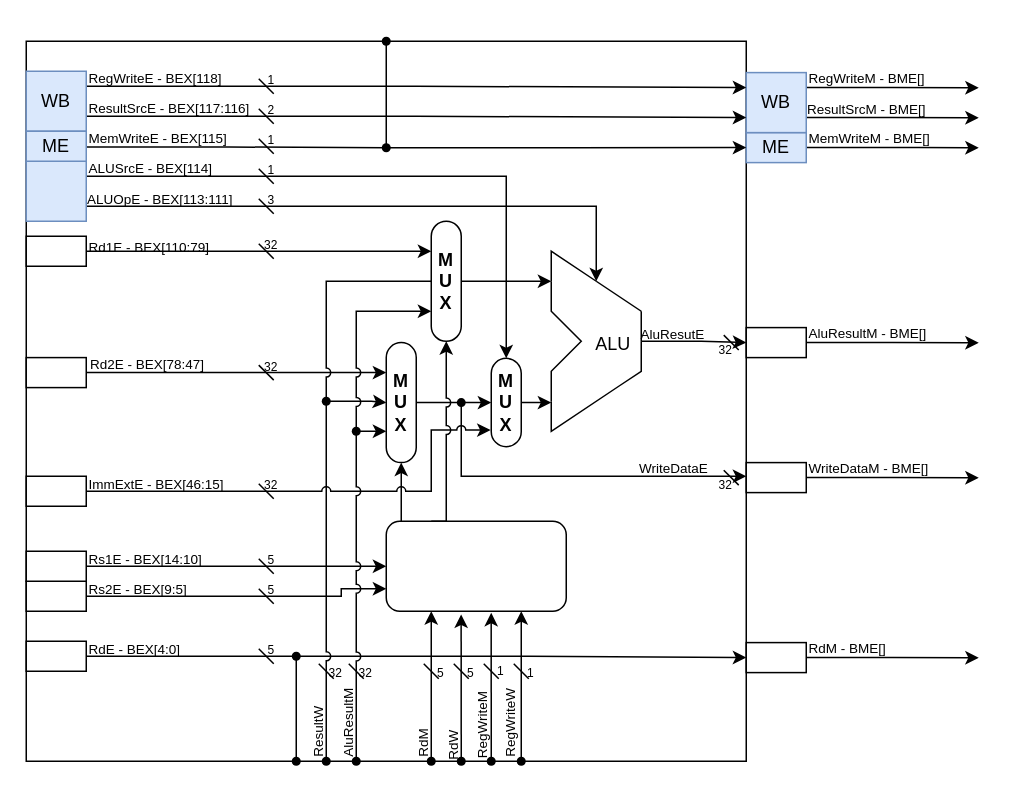
The diagram is 1017 pixels wide and 803 high, and some of its shapes have lost their labels. The centre of each missing label's shape, as x and y in pixels:
"EX" belongs at pixel 55 190.
"Forwarding Unit" belongs at pixel 475 565.
